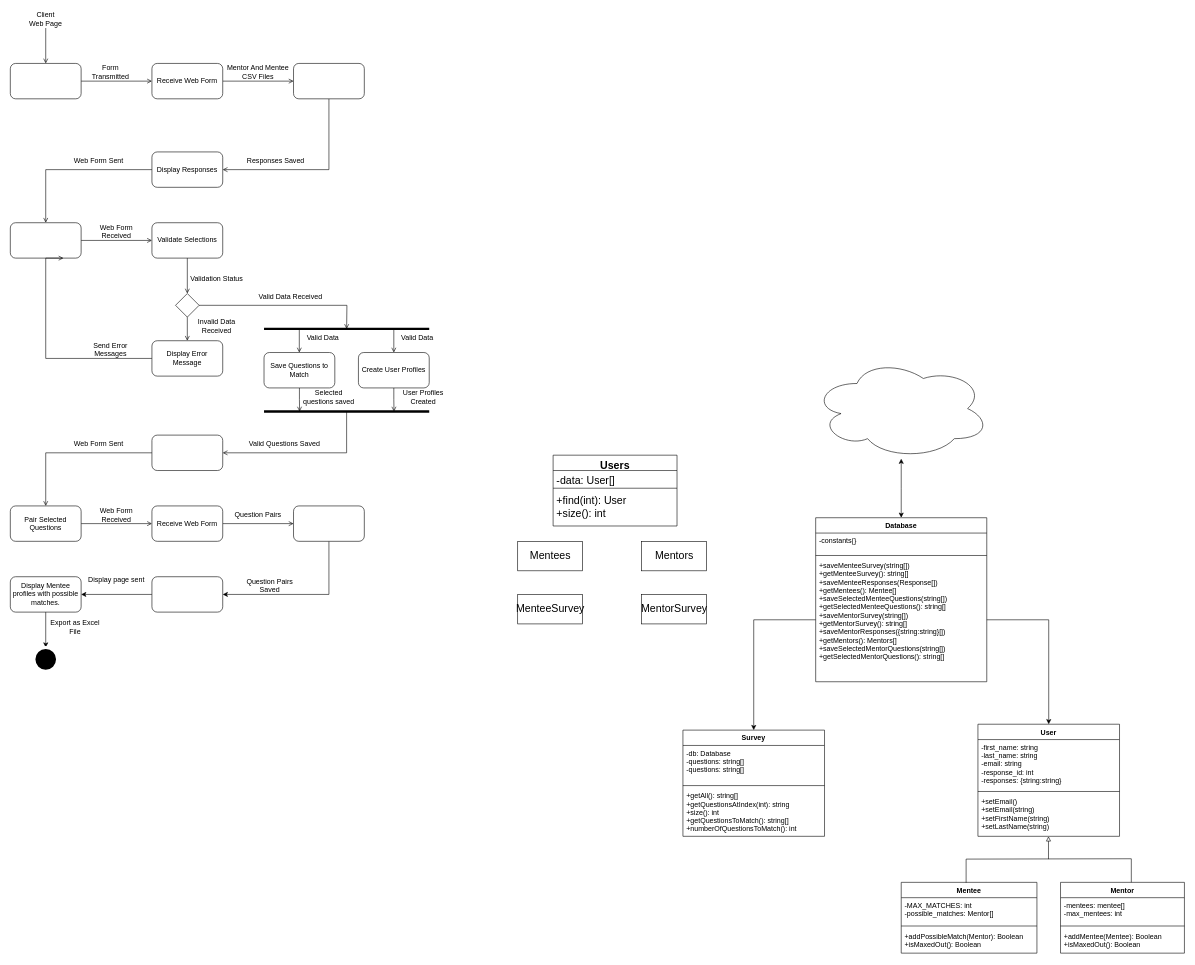
This 1195x965 diagram has some shape labels left out. Each missing label, with the centre of its shape:
"Calculate scores based on the answers of each user" goes at [187,594].
"Display Selected Questions" goes at [187,453].
"Local Storage" goes at [901,408].
"Mentor Marching System" goes at [45,81].
"Save Question Pairs" goes at [328,523].
"Save Responses" goes at [328,81].
"Select questions to match" goes at [45,240].
